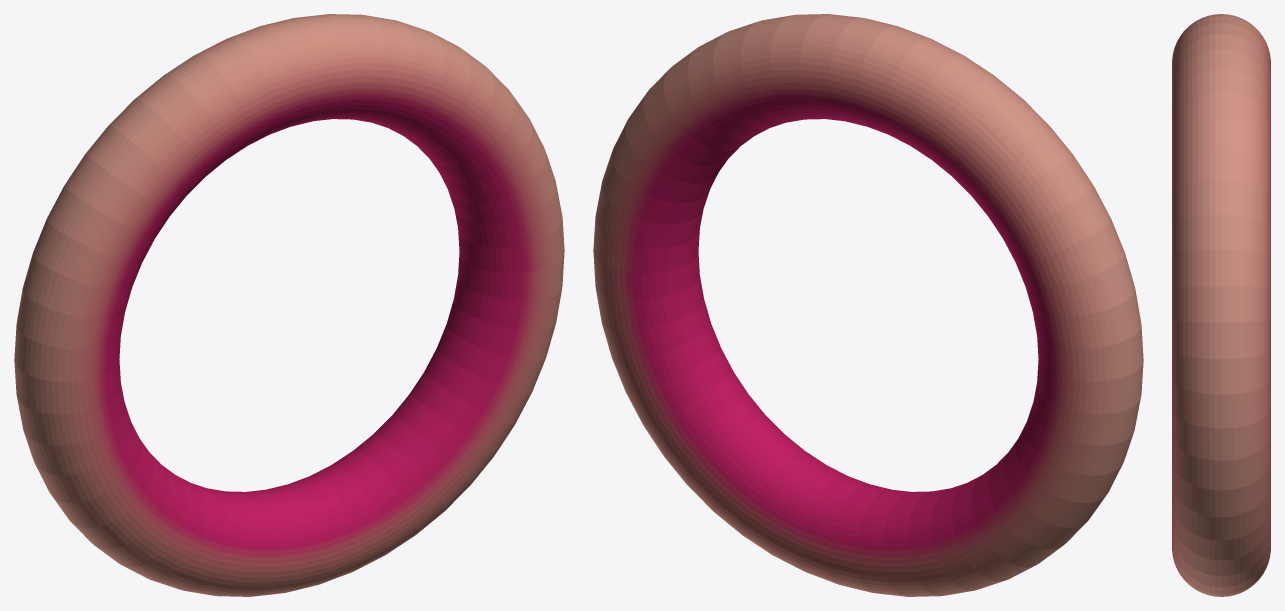
3 views of the same model, side by side, from view 1: azimuth 30°, elevation 25°; view 2: azimuth 150°, elevation 25°; view 3: azimuth 270°, elevation 25° (orthographic). The views are drawn at different scales.
Visible parts, largest first — view 1: world; view 2: world; view 3: world.
Boxes of the visible parts, x1,y1,x2,y2 form: world: (14, 14, 564, 596); world: (593, 14, 1143, 596); world: (1172, 14, 1270, 596).
Size of the model in its own units: 35.33 by 35.26 by 5.99.
